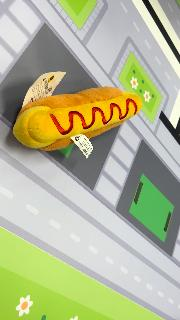hotdog: (13, 86, 144, 152)
